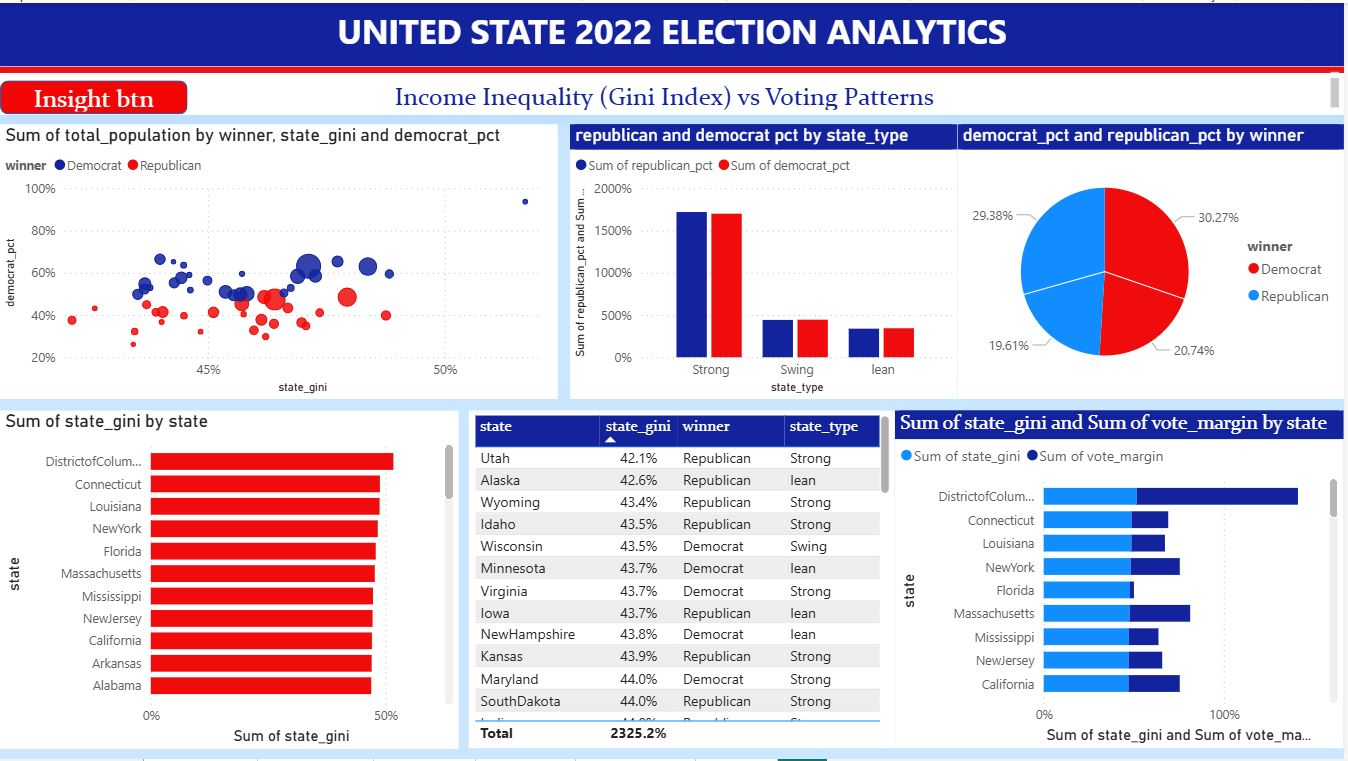

Layout of this report page (visuals, bound fields, positions):
{"tool":"powerbi","page":{"name":"Gini index","canvas":[1280,720],"ordinal":4},"visuals":[{"type":"textbox","box":[0,0,1280,60.3],"z":0},{"type":"textbox","box":[0,60.3,1280,12.1],"z":1000},{"type":"textbox","box":[0,66.4,1280,39.8],"z":2000},{"type":"scatterChart","fields":{"Series":["gini.winner"],"Y":["gini.democrat_pct"],"X":["gini.state_gini"],"Size":["Sum(gini.total_population)"]},"box":[0,115.5,531,261.9],"z":3000},{"type":"clusteredBarChart","fields":{"Category":["gini.state"],"Y":["Sum(gini.state_gini)"]},"box":[0,388.5,436.9,322.7],"z":4000},{"type":"pieChart","fields":{"Category":["gini.winner"],"Y":["Sum(gini.democrat_pct)","Sum(gini.republican_pct)"]},"box":[911.9,115.5,367.9,261.9],"z":5000},{"type":"tableEx","fields":{"Values":["gini.state","Sum(gini.state_gini)","gini.winner","gini.state_type"]},"box":[446.9,388.5,405.9,321.5],"z":6000},{"type":"barChart","fields":{"Y":["Sum(gini.state_gini)","Sum(gini.vote_margin)"],"Category":["gini.state"]},"box":[852.8,388.5,427,321.5],"z":7000},{"type":"clusteredColumnChart","title":"republican and  democrat pct by state_type","fields":{"Category":["gini.state_type"],"Y":["Sum(gini.republican_pct)","Sum(gini.democrat_pct)"]},"box":[542.9,115.5,369,261.9],"z":8000},{"type":"shape","box":[0,73.2,178.7,32.3],"z":9000}]}

Visuals, with their boxes in screenshot pixels (x1, y1, x2, y2), scaled from the page's 1280x720 canvas onto the 1348x761 screenshot:
textbox: x1=0, y1=0, x2=1347, y2=64
textbox: x1=0, y1=64, x2=1347, y2=77
textbox: x1=0, y1=70, x2=1347, y2=112
scatterChart - gini.winner x gini.democrat_pct: x1=0, y1=122, x2=559, y2=399
clusteredBarChart - gini.state x Sum(gini.state_gini): x1=0, y1=411, x2=460, y2=752
pieChart - gini.winner x Sum(gini.democrat_pct): x1=960, y1=122, x2=1347, y2=399
tableEx - gini.state x Sum(gini.state_gini): x1=471, y1=411, x2=898, y2=750
barChart - Sum(gini.state_gini) x Sum(gini.vote_margin): x1=898, y1=411, x2=1347, y2=750
"republican and  democrat pct by state_type" clusteredColumnChart: x1=572, y1=122, x2=960, y2=399
shape: x1=0, y1=77, x2=188, y2=112
